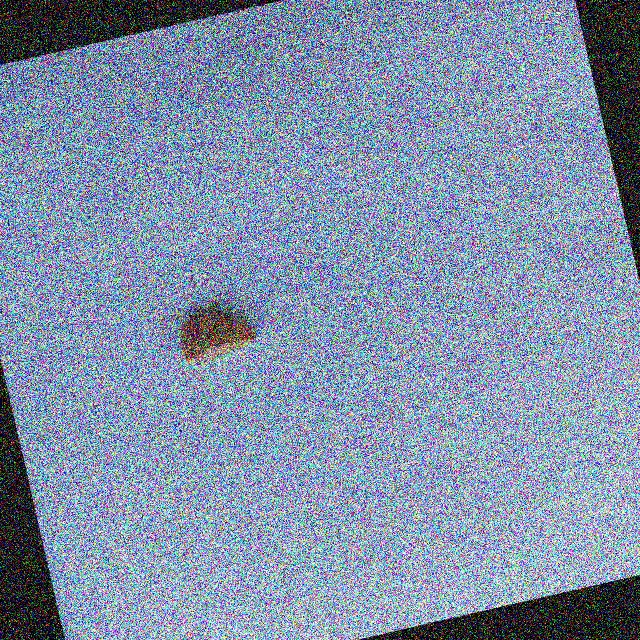grade4: (166, 292, 269, 373)
